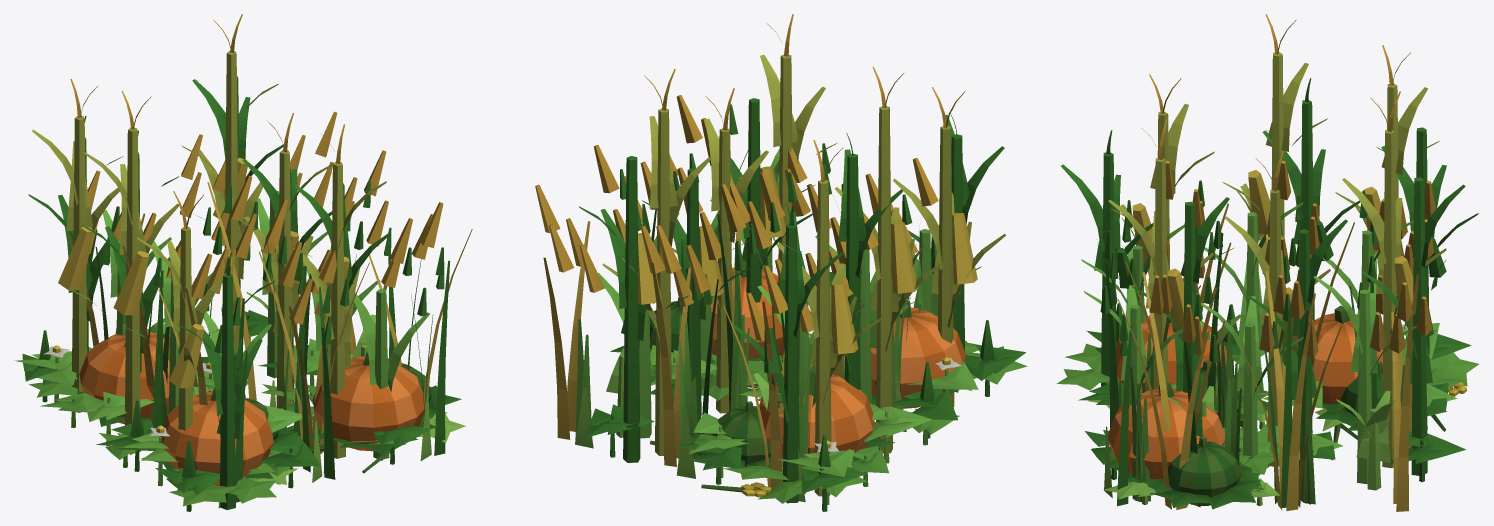
The model's file is crops.glb.
3 renders of one model, left to right at view 1: azimuth 30°, elevation 25°; view 2: azimuth 150°, elevation 25°; view 3: azimuth 270°, elevation 25°, orthographic. The views are drawn at different scales.
Parts seen in each view (by area): view 1: SM_crop_corn_s4, SM_crop_wheat_s4, SM_crop_pumpkin_s4, SM_crop_corn_s3, SM_crop_wheat_s3, SM_crop_corn_s2, SM_crop_clover_s3, SM_crop_clover_s4, SM_crop_pumpkin_s2, SM_crop_clover_s2, SM_crop_wheat_s2, SM_crop_pumpkin_s3 (+3 smaller); view 2: SM_crop_corn_s4, SM_crop_corn_s3, SM_crop_wheat_s4, SM_crop_pumpkin_s4, SM_crop_corn_s2, SM_crop_clover_s3, SM_crop_wheat_s3, SM_crop_wheat_s2, SM_crop_clover_s4, SM_crop_pumpkin_s2, SM_crop_pumpkin_s3, SM_crop_wheat_s1 (+2 smaller); view 3: SM_crop_corn_s4, SM_crop_corn_s3, SM_crop_wheat_s4, SM_crop_corn_s2, SM_crop_wheat_s3, SM_crop_pumpkin_s4, SM_crop_pumpkin_s3, SM_crop_wheat_s2, SM_crop_clover_s3, SM_crop_pumpkin_s2, SM_crop_corn_s1, SM_crop_clover_s4 (+2 smaller).
Part boxes in pixels (x1,y1,x2,y2): SM_crop_corn_s4: (32, 14, 386, 490); SM_crop_wheat_s4: (67, 111, 472, 454); SM_crop_pumpkin_s4: (71, 331, 435, 485); SM_crop_corn_s3: (28, 76, 391, 509); SM_crop_wheat_s3: (95, 179, 449, 502); SM_crop_corn_s2: (72, 191, 429, 459); SM_crop_clover_s3: (22, 310, 430, 511); SM_crop_clover_s4: (14, 323, 352, 486); SM_crop_pumpkin_s2: (29, 347, 313, 506); SM_crop_clover_s2: (40, 385, 394, 484); SM_crop_wheat_s2: (148, 254, 433, 472); SM_crop_pumpkin_s3: (163, 333, 461, 452); SM_crop_corn_s4: (602, 14, 1005, 496); SM_crop_corn_s3: (579, 98, 1004, 503); SM_crop_wheat_s4: (535, 95, 938, 489); SM_crop_pumpkin_s4: (711, 260, 965, 463); SM_crop_corn_s2: (598, 149, 981, 438); SM_crop_clover_s3: (585, 303, 1025, 511); SM_crop_wheat_s3: (620, 104, 921, 455); SM_crop_wheat_s2: (575, 259, 923, 493); SM_crop_clover_s4: (650, 333, 978, 504); SM_crop_pumpkin_s2: (701, 340, 1027, 503); SM_crop_pumpkin_s3: (610, 297, 876, 470); SM_crop_wheat_s1: (575, 373, 906, 501); SM_crop_corn_s4: (1108, 14, 1446, 468); SM_crop_corn_s3: (1061, 78, 1478, 475); SM_crop_wheat_s4: (1117, 160, 1435, 511); SM_crop_corn_s2: (1081, 202, 1416, 483); SM_crop_wheat_s3: (1096, 180, 1378, 507); SM_crop_pumpkin_s4: (1092, 305, 1382, 482); SM_crop_pumpkin_s3: (1138, 360, 1446, 509); SM_crop_wheat_s2: (1130, 319, 1404, 504); SM_crop_clover_s3: (1078, 303, 1471, 482); SM_crop_pumpkin_s2: (1056, 343, 1478, 474); SM_crop_corn_s1: (1168, 290, 1396, 490); SM_crop_clover_s4: (1171, 320, 1456, 459).
Size of the model in its own units: 1.67 by 1.62 by 1.7.
